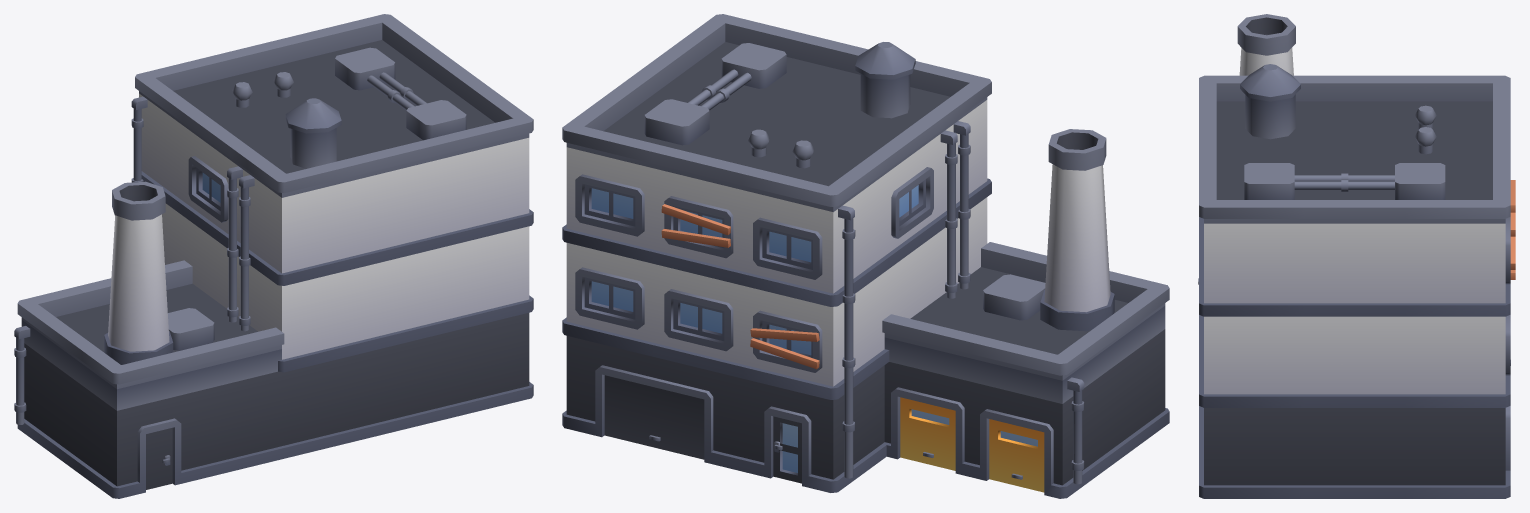
The model's file is building-b_lev1.glb.
The picture shows the model from 3 angles, left to right: view 1: azimuth 30°, elevation 25°; view 2: azimuth 150°, elevation 25°; view 3: azimuth 270°, elevation 25°; orthographic projection. The views are drawn at different scales.
Visible parts, largest first — view 1: building-b_lev1; view 2: building-b_lev1; view 3: building-b_lev1.
Part boxes in pixels (x1,y1,x2,y2): building-b_lev1: (14, 14, 533, 498); building-b_lev1: (562, 14, 1169, 498); building-b_lev1: (1198, 14, 1515, 498).
Bounding box in the file's own units: 2.08 × 1.47 × 1.26.
Materials: 1 (1 with a texture image).
